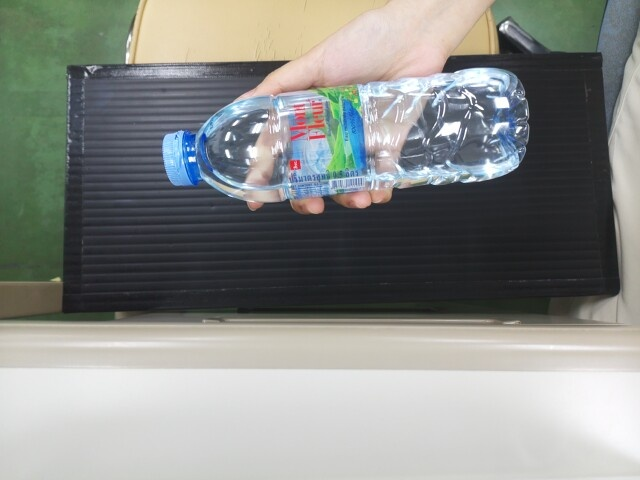plastic_bottle: (158, 99, 427, 191)
